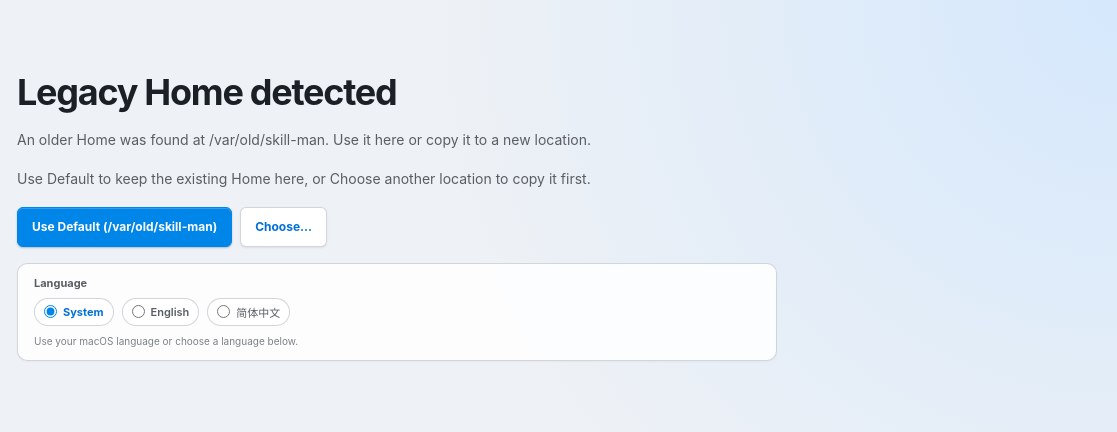
Test case: legacy detected explains the one-time transition and binds in place
The width and height of the screenshot is (1117, 432).
Expected: the text "Use Default to keep the existing Home here" is shown, [17,170,591,187]
Click the button "Use Default (/var/old/skill-man)": (125, 226) [17,206,232,246]
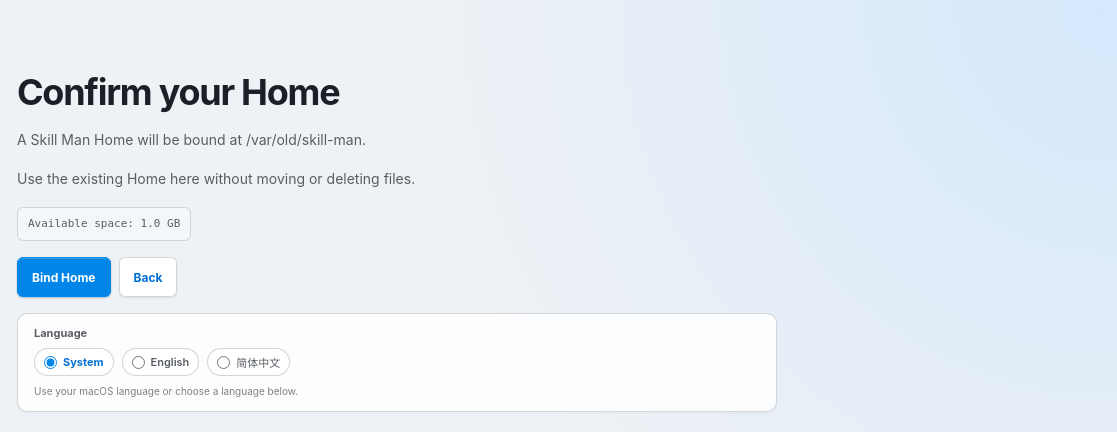
Now the text "Use the existing Home here without moving or deleting files." is shown, box [17,170,415,187]
